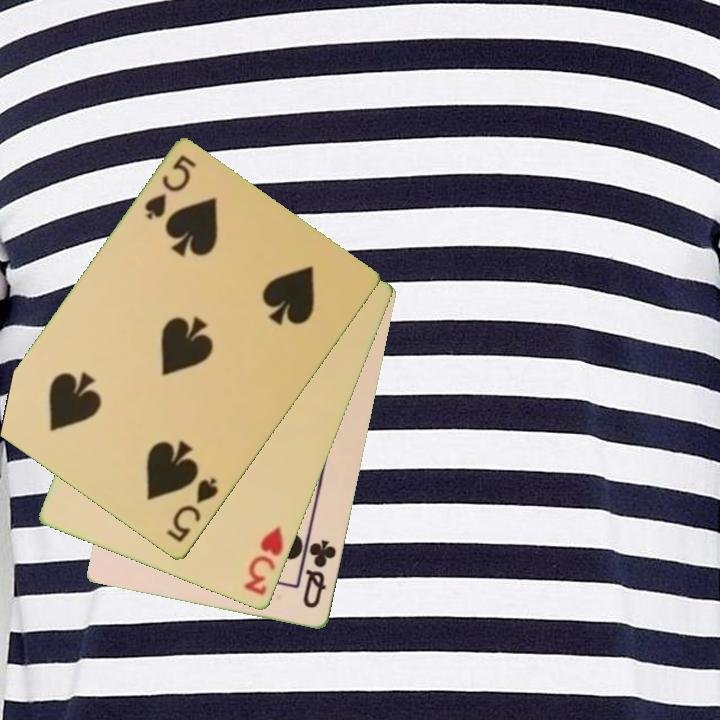3h: (241, 523, 287, 599)
5s: (141, 151, 200, 224), (163, 475, 222, 546)
Qc: (299, 536, 340, 612)
